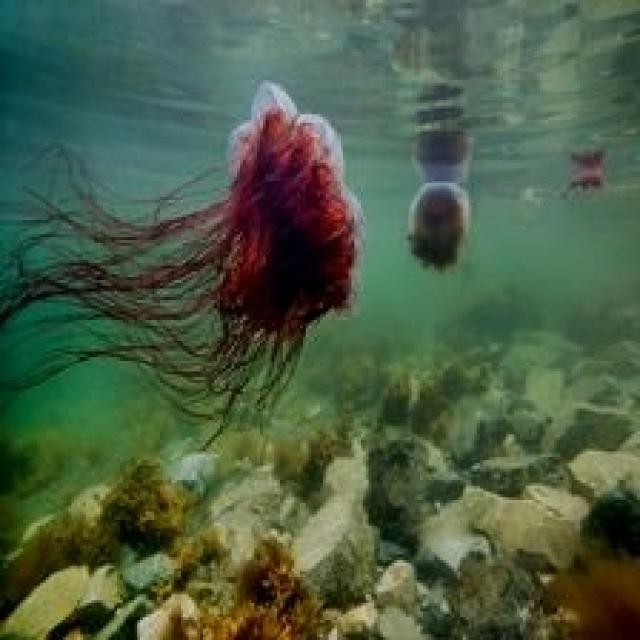Moon-jellyfish: (0, 77, 363, 452)
